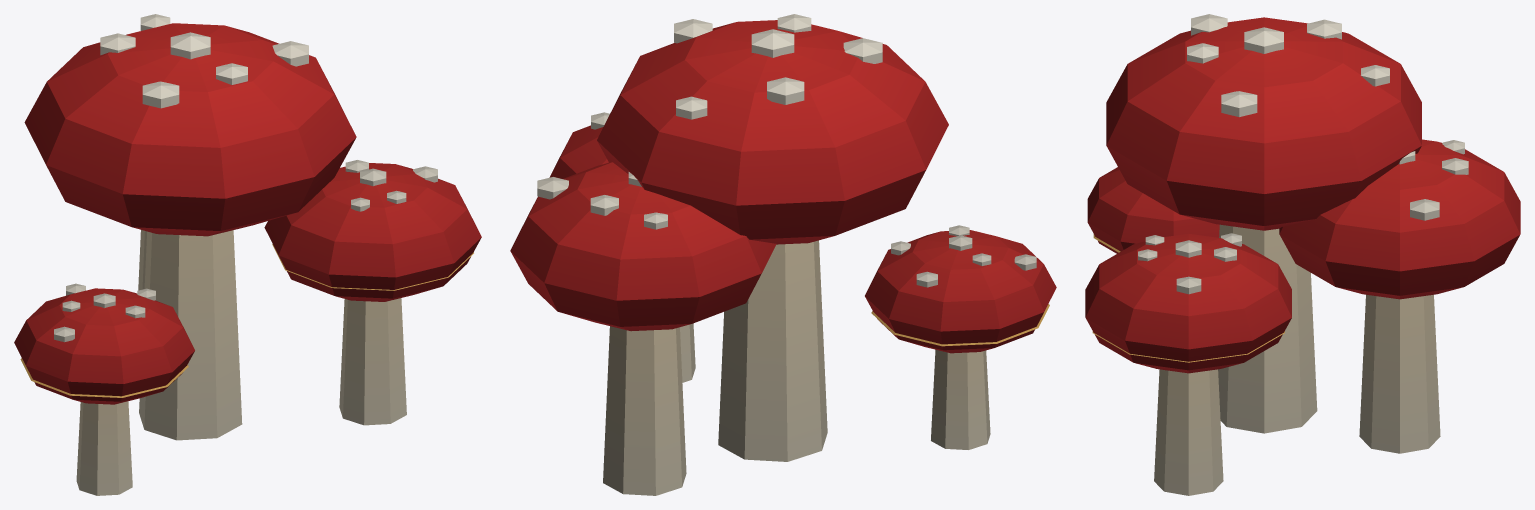
File: toadstool_cluster.glb
The picture shows the model from 3 angles, left to right: view 1: azimuth 30°, elevation 25°; view 2: azimuth 150°, elevation 25°; view 3: azimuth 270°, elevation 25°; orthographic projection. The views are drawn at different scales.
Visible parts, largest first — view 1: toadstool_cluster; view 2: toadstool_cluster; view 3: toadstool_cluster.
Boxes of the visible parts, x1=… form: toadstool_cluster: x1=14, y1=14, x2=481, y2=495; toadstool_cluster: x1=510, y1=14, x2=1056, y2=495; toadstool_cluster: x1=1085, y1=14, x2=1520, y2=495.
Bounding box in the file's own units: 1.71 × 1.39 × 1.44.
